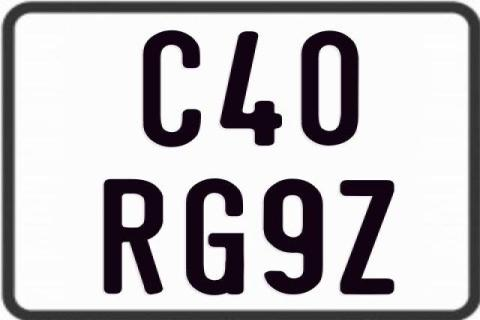0: (261, 178, 326, 298), (217, 31, 284, 147), (298, 29, 360, 145)
C: (142, 30, 204, 148)
G: (184, 177, 248, 299)
R: (104, 177, 169, 297)
Z: (338, 180, 392, 296)
